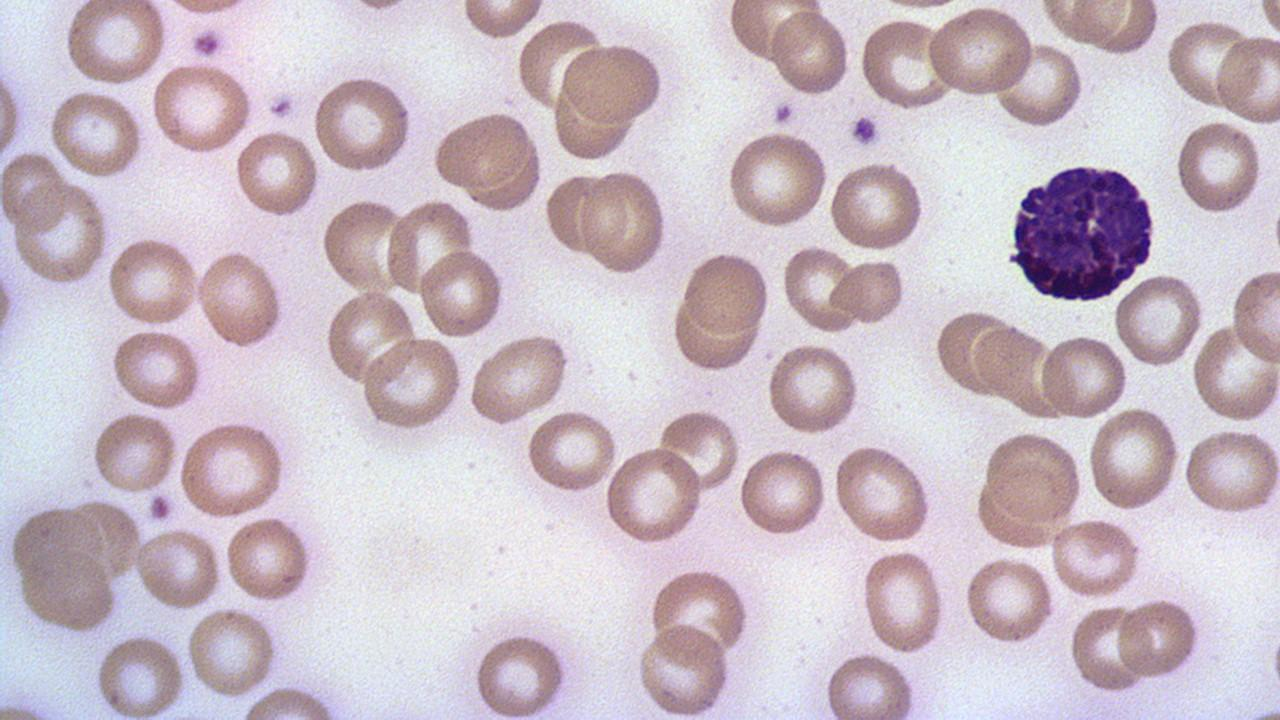Platelets: (850, 113, 882, 148), (265, 89, 297, 120)
RBC: (176, 418, 287, 520), (724, 127, 830, 231), (648, 564, 754, 666), (310, 72, 414, 175), (11, 180, 110, 287), (1086, 405, 1182, 514), (831, 444, 935, 544), (926, 5, 1035, 100), (467, 331, 576, 426), (360, 334, 465, 432), (604, 444, 704, 546), (148, 61, 254, 156), (980, 428, 1085, 522), (322, 288, 418, 389), (636, 620, 735, 716), (580, 168, 668, 276), (828, 159, 928, 253), (62, 2, 171, 88), (104, 234, 201, 330), (766, 340, 861, 438), (430, 109, 539, 194), (1192, 320, 1280, 425), (16, 546, 121, 634), (560, 39, 666, 126), (972, 320, 1067, 416), (858, 15, 954, 110), (860, 548, 946, 654), (48, 88, 146, 181), (195, 250, 286, 350), (471, 628, 572, 718), (385, 196, 474, 298), (736, 445, 830, 541), (1114, 270, 1204, 370), (185, 605, 279, 700), (516, 14, 604, 115), (1176, 117, 1264, 218), (1182, 426, 1280, 515), (320, 196, 408, 294), (962, 554, 1055, 646), (1039, 331, 1131, 420), (526, 407, 618, 496), (1164, 17, 1252, 110), (94, 631, 188, 718), (995, 40, 1085, 130), (234, 126, 320, 220), (1047, 515, 1143, 599), (225, 514, 312, 604), (133, 526, 224, 612), (420, 247, 503, 340), (111, 328, 204, 411), (682, 249, 770, 336), (92, 409, 178, 496), (660, 407, 742, 498), (782, 241, 861, 335), (1116, 594, 1202, 680), (770, 8, 850, 100), (1068, 604, 1148, 694), (822, 650, 919, 720), (1213, 29, 1279, 125), (544, 171, 614, 258), (725, 2, 820, 64), (2, 146, 67, 235), (831, 256, 908, 326), (1229, 265, 1279, 367), (1073, 0, 1161, 53), (457, 1, 549, 38), (0, 46, 24, 171)
WBC: (3, 116, 328, 654), (1002, 158, 1160, 308)
